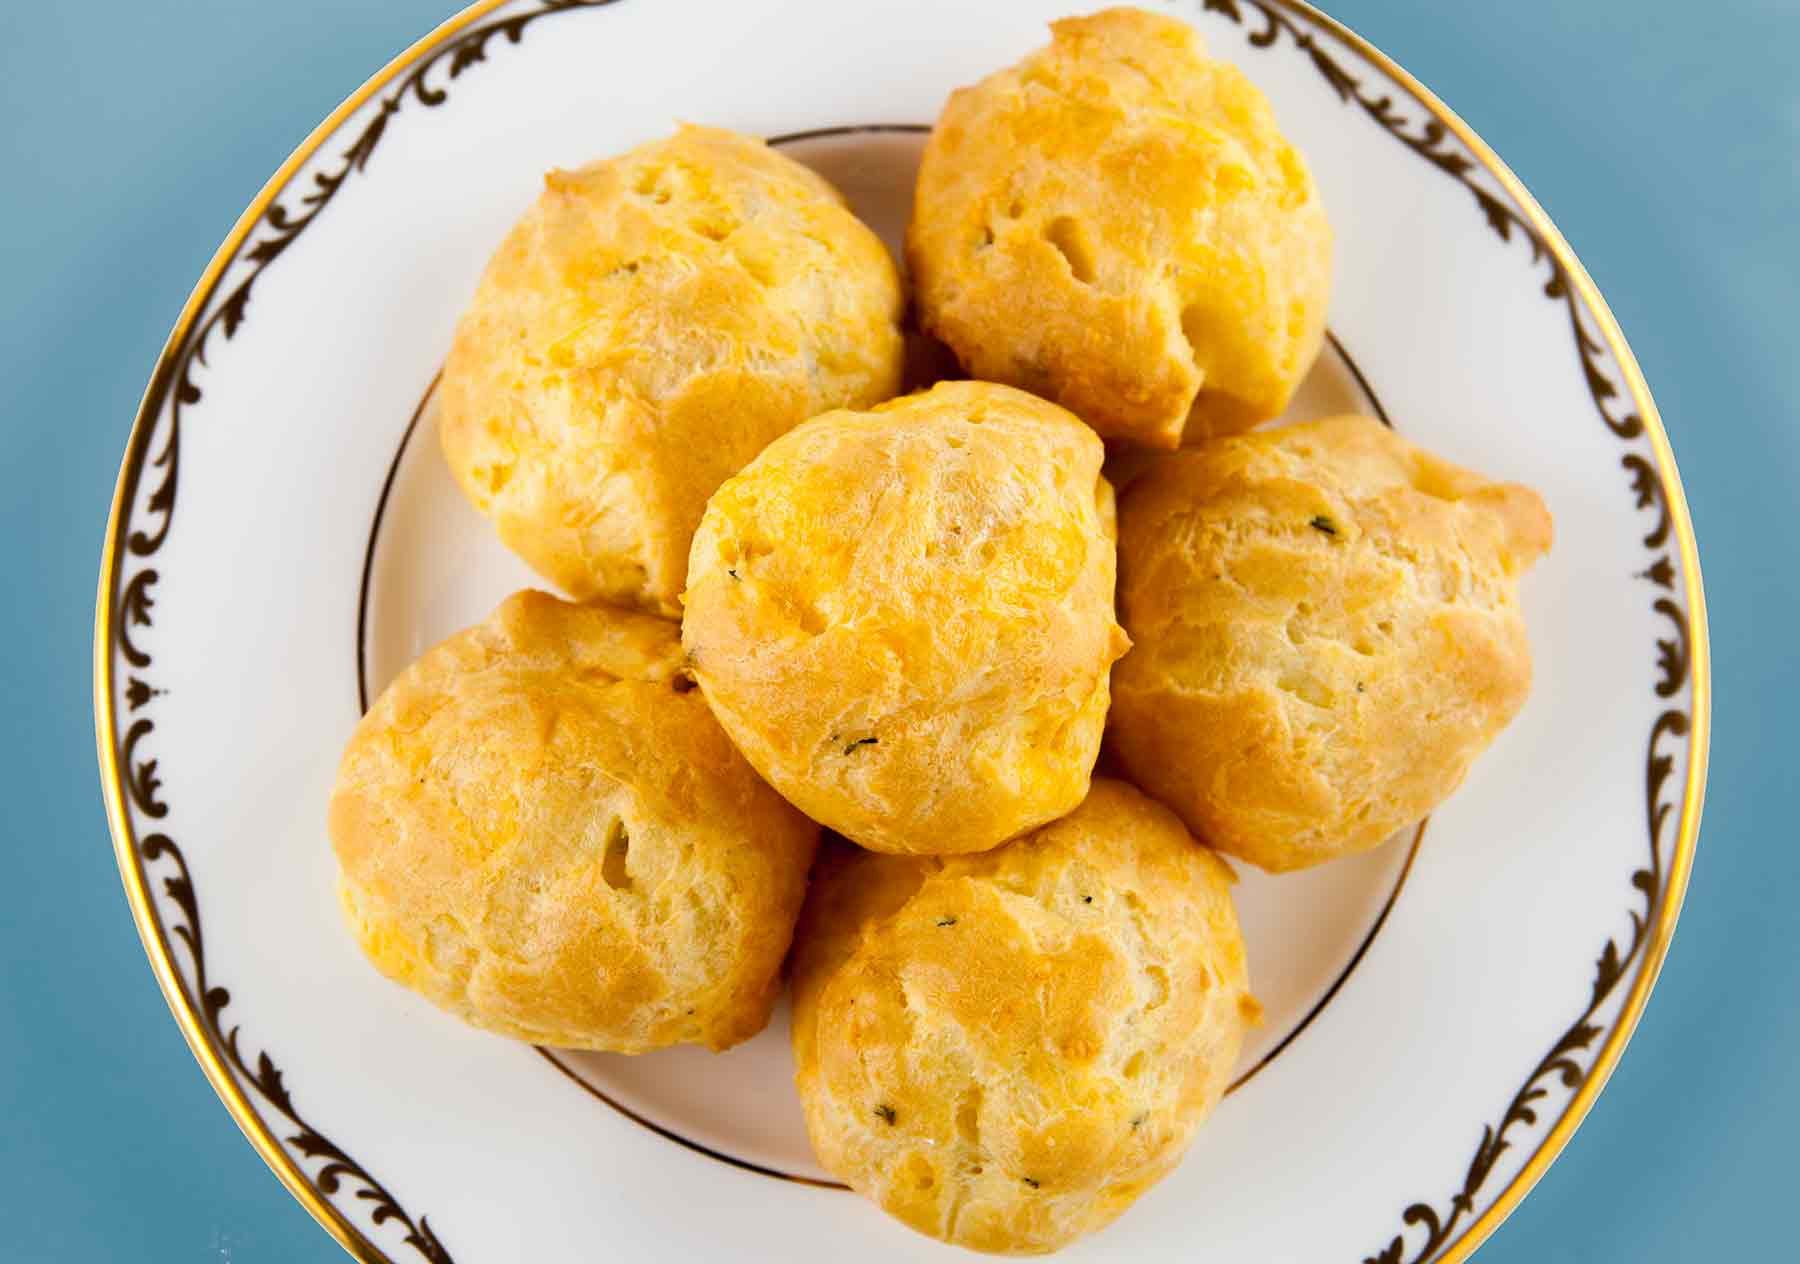cheese: (282, 510, 895, 1077), (676, 295, 1161, 933)
